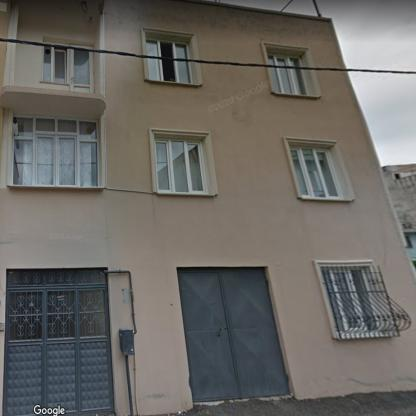door: (177, 268, 290, 400), (5, 286, 113, 415), (70, 49, 94, 93)
window: (12, 113, 99, 186), (320, 266, 382, 336), (154, 138, 208, 193), (290, 146, 344, 198), (8, 269, 107, 286), (270, 68, 310, 96), (148, 59, 193, 83), (42, 47, 70, 84), (146, 38, 190, 58), (266, 54, 302, 66)
